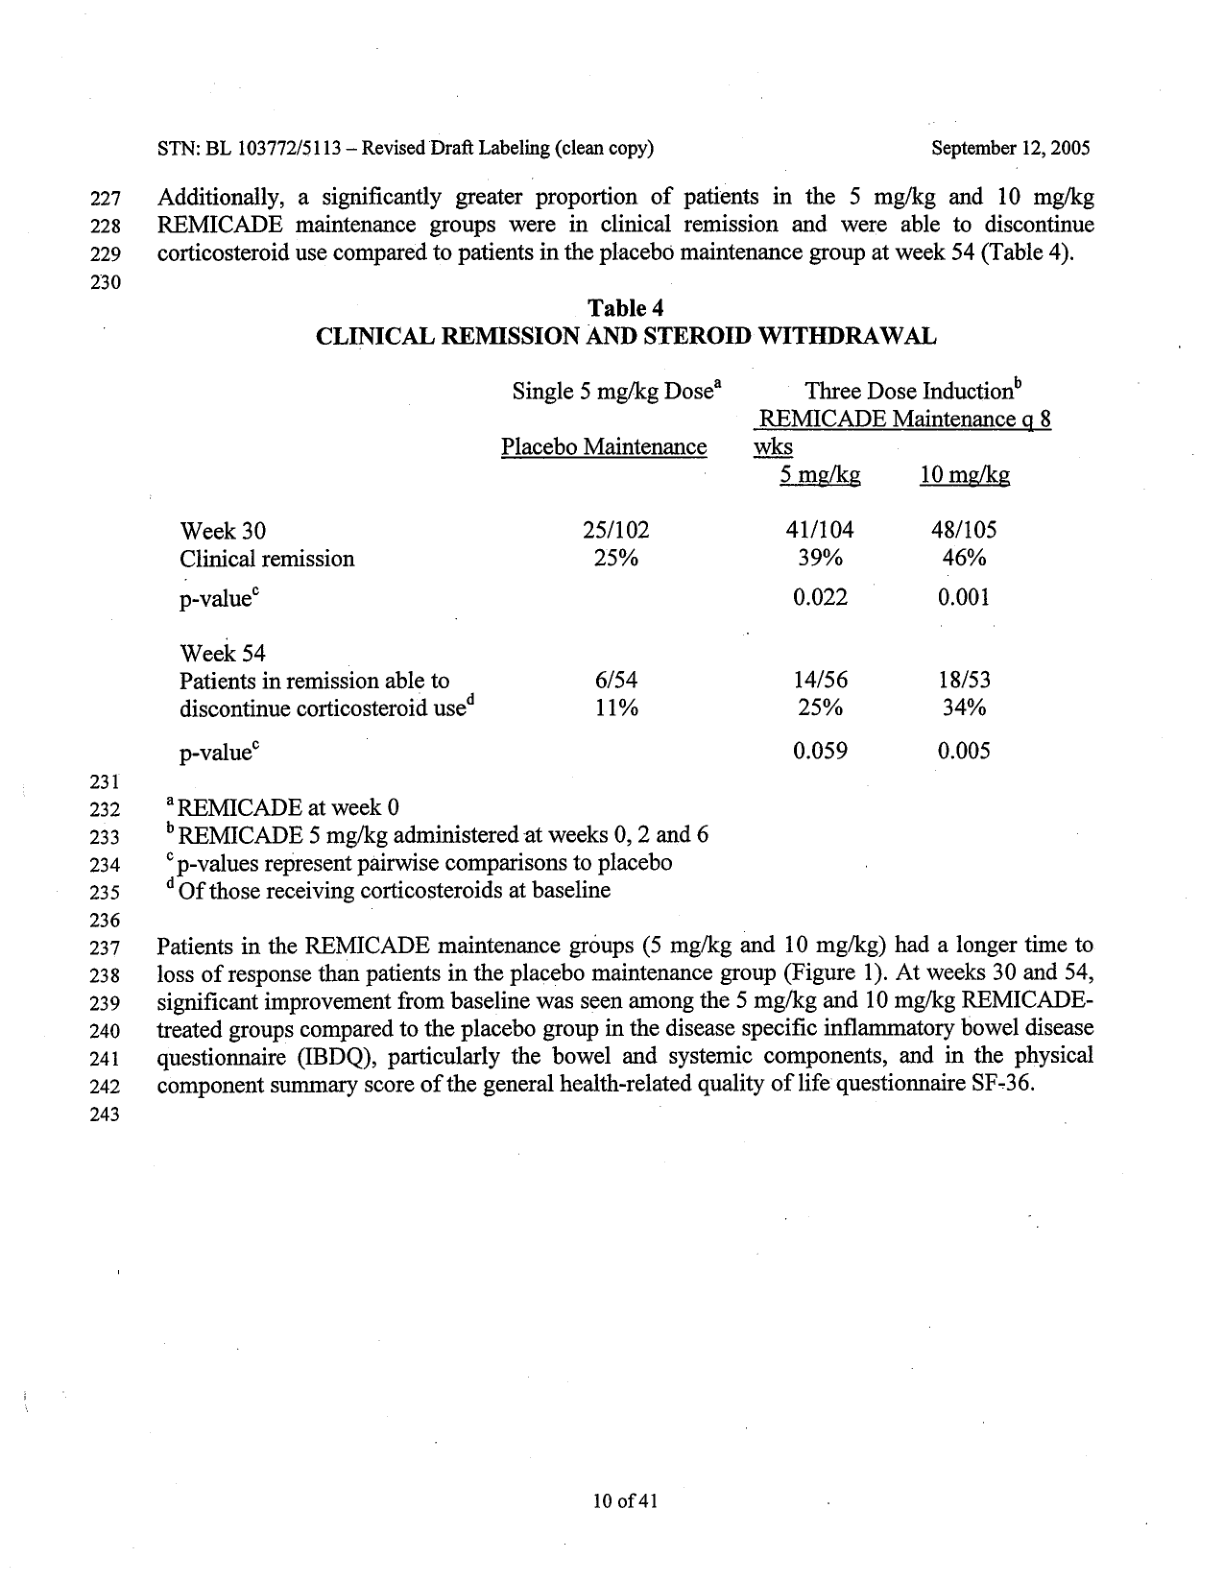nolines: (177, 378, 1056, 764)
